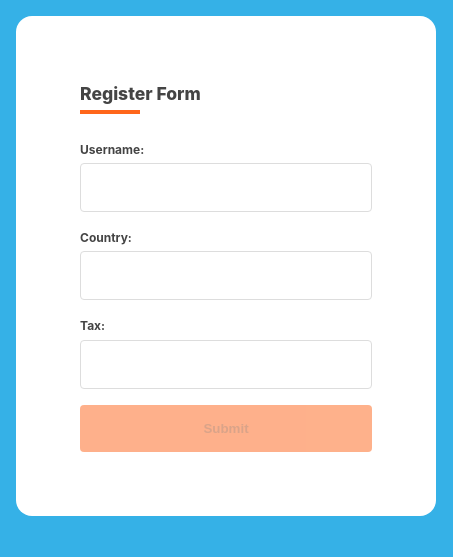
Test: Register Form › Username field › Should show error if username not filled
This screenshot has width=453, height=557.
Focus the field named "username" below "Username:": [226, 188] box [80,163,372,212]
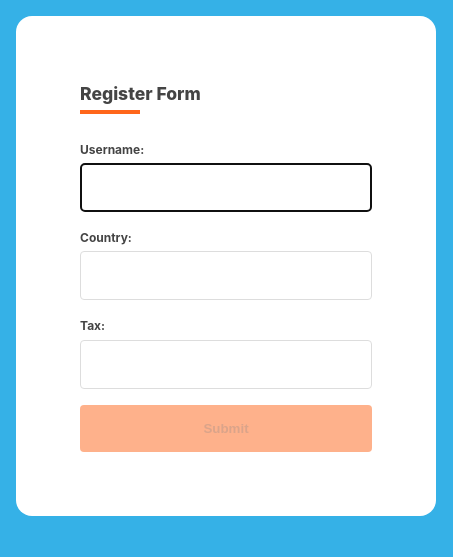
Leave the field named "username" below "Username:", box [80,163,372,212]
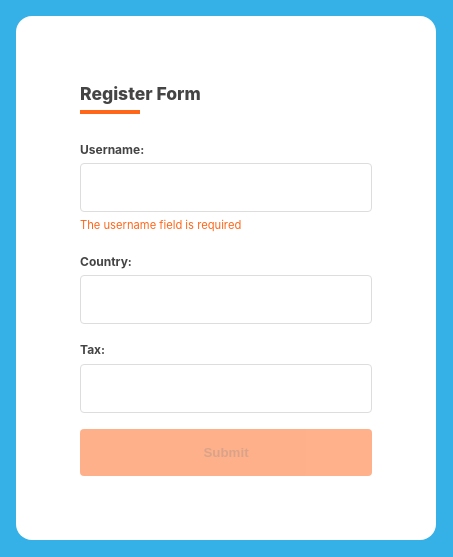
Result: the text "The username field is required" is shown at [80,218,241,232]
